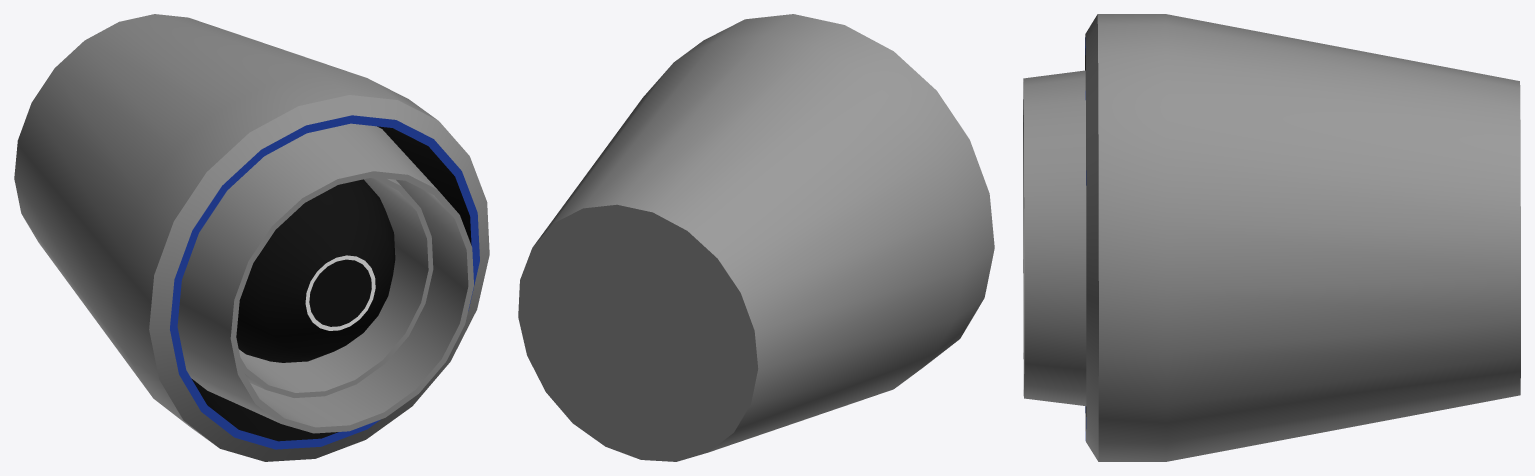
File: Ending_tube_02.FBX
3 renders of one model, left to right at view 1: azimuth 30°, elevation 25°; view 2: azimuth 150°, elevation 25°; view 3: azimuth 270°, elevation 25°, orthographic. The views are drawn at different scales.
Visible parts, largest first — view 1: Ending003; view 2: Ending003; view 3: Ending003.
Boxes of the visible parts, box(x1,y1,x2,y2) form: Ending003: box(14, 14, 489, 461); Ending003: box(518, 14, 994, 461); Ending003: box(1023, 14, 1520, 461).
Bounding box in the file's own units: 443 × 443 × 492.
